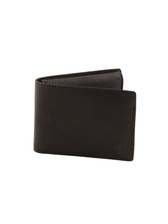other: (27, 71, 140, 165)
